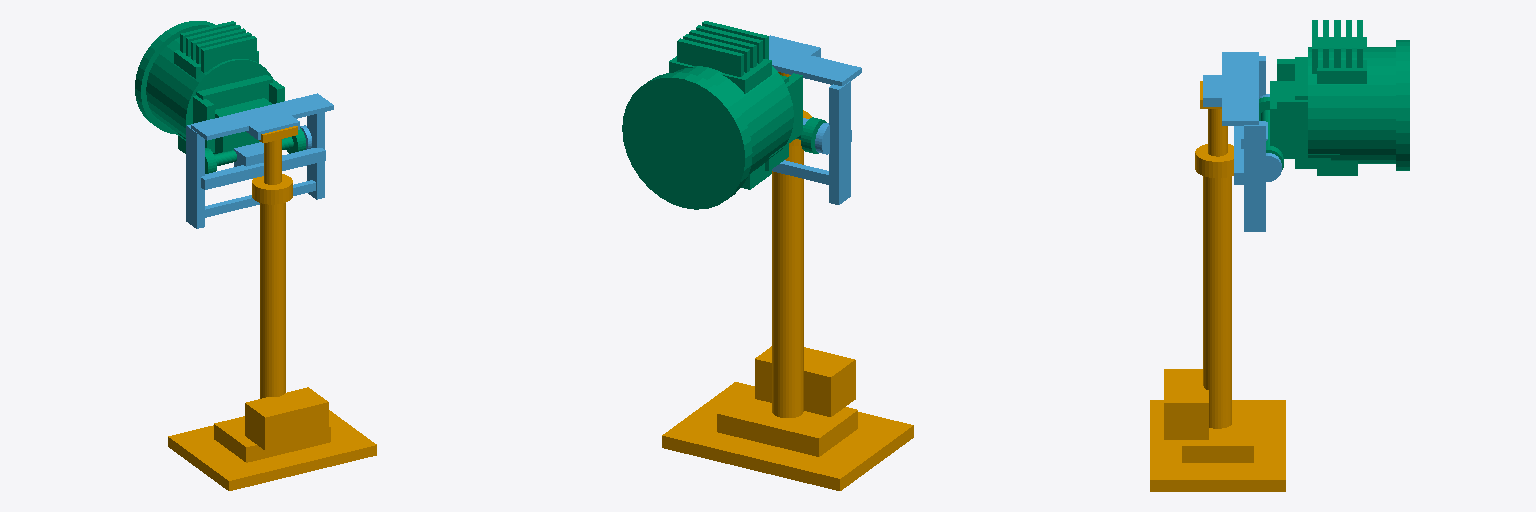
robot.urdf — studio_spotlight:
<robot name="studio_spotlight">
  <link name="stand">
    <inertial>
      <origin xyz="0 0 0.46" rpy="0 0 0" />
      <mass value="18" />
      <inertia ixx="1.4046" ixy="0" ixz="0" iyy="1.5342" iyz="0" izz="0.3996" />
    </inertial>
    <visual name="base_plate">
      <origin xyz="0 0 0.014" rpy="0 0 0" />
      <geometry>
        <box size="0.42 0.3 0.028" />
      </geometry>
    </visual>
    <visual name="base_plinth">
      <origin xyz="0 0 0.049" rpy="0 0 0" />
      <geometry>
        <box size="0.24 0.16 0.042" />
      </geometry>
    </visual>
    <visual name="ballast_box">
      <origin xyz="0 -0.07 0.115" rpy="0 0 0" />
      <geometry>
        <box size="0.18 0.1 0.09" />
      </geometry>
    </visual>
    <visual name="lower_riser">
      <origin xyz="0 0 0.38" rpy="0 0 0" />
      <geometry>
        <cylinder radius="0.032" length="0.62" />
      </geometry>
    </visual>
    <visual name="lock_collar">
      <origin xyz="0 0 0.71" rpy="0 0 0" />
      <geometry>
        <cylinder radius="0.05" length="0.04" />
      </geometry>
    </visual>
    <visual name="upper_riser">
      <origin xyz="0 0 0.795" rpy="0 0 0" />
      <geometry>
        <cylinder radius="0.022" length="0.13" />
      </geometry>
    </visual>
    <visual name="pan_head">
      <origin xyz="0 0 0.871" rpy="0 0 0" />
      <geometry>
        <box size="0.1 0.08 0.022" />
      </geometry>
    </visual>
    <visual name="foot_l_b">
      <origin xyz="-0.155 -0.105 -0.004" rpy="0 0 0" />
      <geometry>
        <box size="0.045 0.045 0.008" />
      </geometry>
    </visual>
    <visual name="foot_l_f">
      <origin xyz="-0.155 0.105 -0.004" rpy="0 0 0" />
      <geometry>
        <box size="0.045 0.045 0.008" />
      </geometry>
    </visual>
    <visual name="foot_r_b">
      <origin xyz="0.155 -0.105 -0.004" rpy="0 0 0" />
      <geometry>
        <box size="0.045 0.045 0.008" />
      </geometry>
    </visual>
    <visual name="foot_r_f">
      <origin xyz="0.155 0.105 -0.004" rpy="0 0 0" />
      <geometry>
        <box size="0.045 0.045 0.008" />
      </geometry>
    </visual>
    <collision name="stand__base_plate">
      <origin xyz="0 0 0.014" rpy="0 0 0" />
      <geometry>
        <box size="0.42 0.3 0.028" />
      </geometry>
    </collision>
    <collision name="stand__base_plinth">
      <origin xyz="0 0 0.049" rpy="0 0 0" />
      <geometry>
        <box size="0.24 0.16 0.042" />
      </geometry>
    </collision>
    <collision name="stand__ballast_box">
      <origin xyz="0 -0.07 0.115" rpy="0 0 0" />
      <geometry>
        <box size="0.18 0.1 0.09" />
      </geometry>
    </collision>
    <collision name="stand__lower_riser">
      <origin xyz="0 0 0.38" rpy="0 0 0" />
      <geometry>
        <cylinder radius="0.032" length="0.62" />
      </geometry>
    </collision>
    <collision name="stand__lock_collar">
      <origin xyz="0 0 0.71" rpy="0 0 0" />
      <geometry>
        <cylinder radius="0.05" length="0.04" />
      </geometry>
    </collision>
    <collision name="stand__upper_riser">
      <origin xyz="0 0 0.795" rpy="0 0 0" />
      <geometry>
        <cylinder radius="0.022" length="0.13" />
      </geometry>
    </collision>
    <collision name="stand__pan_head">
      <origin xyz="0 0 0.871" rpy="0 0 0" />
      <geometry>
        <box size="0.1 0.08 0.022" />
      </geometry>
    </collision>
    <collision name="stand__foot_l_b">
      <origin xyz="-0.155 -0.105 -0.004" rpy="0 0 0" />
      <geometry>
        <box size="0.045 0.045 0.008" />
      </geometry>
    </collision>
    <collision name="stand__foot_l_f">
      <origin xyz="-0.155 0.105 -0.004" rpy="0 0 0" />
      <geometry>
        <box size="0.045 0.045 0.008" />
      </geometry>
    </collision>
    <collision name="stand__foot_r_b">
      <origin xyz="0.155 -0.105 -0.004" rpy="0 0 0" />
      <geometry>
        <box size="0.045 0.045 0.008" />
      </geometry>
    </collision>
    <collision name="stand__foot_r_f">
      <origin xyz="0.155 0.105 -0.004" rpy="0 0 0" />
      <geometry>
        <box size="0.045 0.045 0.008" />
      </geometry>
    </collision>
  </link>
  <link name="yoke">
    <inertial>
      <origin xyz="0 0.05 -0.135" rpy="0 0 0" />
      <mass value="3.4" />
      <inertia ixx="0.0234883" ixy="0" ixz="0" iyy="0.057375" iyz="0" izz="0.0395533" />
    </inertial>
    <visual name="top_bridge">
      <origin xyz="0 0.05 -0.006" rpy="0 0 0" />
      <geometry>
        <box size="0.36 0.08 0.012" />
      </geometry>
    </visual>
    <visual name="pan_crown">
      <origin xyz="0 0.018 -0.011" rpy="0 0 0" />
      <geometry>
        <box size="0.12 0.1 0.022" />
      </geometry>
    </visual>
    <visual name="center_trunnion_block">
      <origin xyz="0 0.082 -0.132" rpy="0 0 0" />
      <geometry>
        <box size="0.09 0.06 0.052" />
      </geometry>
    </visual>
    <visual name="side_arm_l">
      <origin xyz="-0.17 0.082 -0.14" rpy="0 0 0" />
      <geometry>
        <box size="0.024 0.05 0.26" />
      </geometry>
    </visual>
    <visual name="tilt_collar_l">
      <origin xyz="-0.154 0.11 -0.125" rpy="0 1.5708 0" />
      <geometry>
        <cylinder radius="0.032" length="0.016" />
      </geometry>
    </visual>
    <visual name="side_arm_r">
      <origin xyz="0.17 0.082 -0.14" rpy="0 0 0" />
      <geometry>
        <box size="0.024 0.05 0.26" />
      </geometry>
    </visual>
    <visual name="tilt_collar_r">
      <origin xyz="0.154 0.11 -0.125" rpy="0 1.5708 0" />
      <geometry>
        <cylinder radius="0.032" length="0.016" />
      </geometry>
    </visual>
    <visual name="tilt_backbrace">
      <origin xyz="0 0.05 -0.145" rpy="0 0 0" />
      <geometry>
        <box size="0.342 0.028 0.028" />
      </geometry>
    </visual>
    <visual name="lower_stiffener">
      <origin xyz="0 0.068 -0.235" rpy="0 0 0" />
      <geometry>
        <box size="0.342 0.018 0.022" />
      </geometry>
    </visual>
    <collision name="yoke__top_bridge">
      <origin xyz="0 0.05 -0.006" rpy="0 0 0" />
      <geometry>
        <box size="0.36 0.08 0.012" />
      </geometry>
    </collision>
    <collision name="yoke__pan_crown">
      <origin xyz="0 0.018 -0.011" rpy="0 0 0" />
      <geometry>
        <box size="0.12 0.1 0.022" />
      </geometry>
    </collision>
    <collision name="yoke__center_trunnion_block">
      <origin xyz="0 0.082 -0.132" rpy="0 0 0" />
      <geometry>
        <box size="0.09 0.06 0.052" />
      </geometry>
    </collision>
    <collision name="yoke__side_arm_l">
      <origin xyz="-0.17 0.082 -0.14" rpy="0 0 0" />
      <geometry>
        <box size="0.024 0.05 0.26" />
      </geometry>
    </collision>
    <collision name="yoke__tilt_collar_l">
      <origin xyz="-0.154 0.11 -0.125" rpy="0 1.5708 0" />
      <geometry>
        <cylinder radius="0.032" length="0.016" />
      </geometry>
    </collision>
    <collision name="yoke__side_arm_r">
      <origin xyz="0.17 0.082 -0.14" rpy="0 0 0" />
      <geometry>
        <box size="0.024 0.05 0.26" />
      </geometry>
    </collision>
    <collision name="yoke__tilt_collar_r">
      <origin xyz="0.154 0.11 -0.125" rpy="0 1.5708 0" />
      <geometry>
        <cylinder radius="0.032" length="0.016" />
      </geometry>
    </collision>
    <collision name="yoke__tilt_backbrace">
      <origin xyz="0 0.05 -0.145" rpy="0 0 0" />
      <geometry>
        <box size="0.342 0.028 0.028" />
      </geometry>
    </collision>
    <collision name="yoke__lower_stiffener">
      <origin xyz="0 0.068 -0.235" rpy="0 0 0" />
      <geometry>
        <box size="0.342 0.018 0.022" />
      </geometry>
    </collision>
  </link>
  <link name="lamp">
    <inertial>
      <origin xyz="0 0.18 0.085" rpy="0 0 0" />
      <mass value="6.8" />
      <inertia ixx="0.123533" ixy="0" ixz="0" iyy="0.109027" iyz="0" izz="0.116507" />
    </inertial>
    <visual name="tilt_axle">
      <origin xyz="0 0 0" rpy="0 1.5708 0" />
      <geometry>
        <cylinder radius="0.015" length="0.23" />
      </geometry>
    </visual>
    <visual name="tilt_knob_l">
      <origin xyz="-0.127 0 0" rpy="0 1.5708 0" />
      <geometry>
        <cylinder radius="0.036" length="0.024" />
      </geometry>
    </visual>
    <visual name="tilt_knob_r">
      <origin xyz="0.127 0 0" rpy="0 1.5708 0" />
      <geometry>
        <cylinder radius="0.036" length="0.024" />
      </geometry>
    </visual>
    <visual name="rear_body">
      <origin xyz="0 0.1 0.06" rpy="0 0 0" />
      <geometry>
        <box size="0.2 0.08 0.18" />
      </geometry>
    </visual>
    <visual name="trunnion_core">
      <origin xyz="0 0.05 0.045" rpy="0 0 0" />
      <geometry>
        <box size="0.15 0.09 0.12" />
      </geometry>
    </visual>
    <visual name="main_drum">
      <origin xyz="0 0.19 0.08" rpy="1.5708 0 0" />
      <geometry>
        <cylinder radius="0.13" length="0.2" />
      </geometry>
    </visual>
    <visual name="front_bezel">
      <origin xyz="0 0.3 0.08" rpy="1.5708 0 0" />
      <geometry>
        <cylinder radius="0.145" length="0.03" />
      </geometry>
    </visual>
    <visual name="lens_tube">
      <origin xyz="0 0.255 0.08" rpy="1.5708 0 0" />
      <geometry>
        <cylinder radius="0.102" length="0.06" />
      </geometry>
    </visual>
    <visual name="front_lens">
      <origin xyz="0 0.287 0.08" rpy="1.5708 0 0" />
      <geometry>
        <cylinder radius="0.122" length="0.008" />
      </geometry>
    </visual>
    <visual name="driver_housing">
      <origin xyz="0 0.165 0.165" rpy="0 0 0" />
      <geometry>
        <box size="0.18 0.11 0.08" />
      </geometry>
    </visual>
    <visual name="lower_chin">
      <origin xyz="0 0.155 -0.025" rpy="0 0 0" />
      <geometry>
        <box size="0.18 0.09 0.05" />
      </geometry>
    </visual>
    <visual name="cooling_fin_1">
      <origin xyz="0 0.105 0.222" rpy="0 0 0" />
      <geometry>
        <box size="0.15 0.014 0.06" />
      </geometry>
    </visual>
    <visual name="cooling_fin_2">
      <origin xyz="0 0.13 0.222" rpy="0 0 0" />
      <geometry>
        <box size="0.15 0.014 0.06" />
      </geometry>
    </visual>
    <visual name="cooling_fin_3">
      <origin xyz="0 0.155 0.222" rpy="0 0 0" />
      <geometry>
        <box size="0.15 0.014 0.06" />
      </geometry>
    </visual>
    <visual name="cooling_fin_4">
      <origin xyz="0 0.18 0.222" rpy="0 0 0" />
      <geometry>
        <box size="0.15 0.014 0.06" />
      </geometry>
    </visual>
    <visual name="cooling_fin_5">
      <origin xyz="0 0.205 0.222" rpy="0 0 0" />
      <geometry>
        <box size="0.15 0.014 0.06" />
      </geometry>
    </visual>
    <visual name="side_cheek_l">
      <origin xyz="-0.1 0.09 0.075" rpy="0 0 0" />
      <geometry>
        <box size="0.022 0.14 0.13" />
      </geometry>
    </visual>
    <visual name="side_cheek_r">
      <origin xyz="0.1 0.09 0.075" rpy="0 0 0" />
      <geometry>
        <box size="0.022 0.14 0.13" />
      </geometry>
    </visual>
    <visual name="accessory_tab_1">
      <origin xyz="0 0.305 -0.05" rpy="0 0 0" />
      <geometry>
        <box size="0.055 0.012 0.028" />
      </geometry>
    </visual>
    <visual name="accessory_tab_2">
      <origin xyz="0 0.305 0.176" rpy="0 0 0" />
      <geometry>
        <box size="0.055 0.012 0.028" />
      </geometry>
    </visual>
    <visual name="carry_handle">
      <geometry>
        <mesh filename="meshes/lamp_handle.glb" />
      </geometry>
    </visual>
    <collision name="lamp__tilt_axle">
      <origin xyz="0 0 0" rpy="0 1.5708 0" />
      <geometry>
        <cylinder radius="0.015" length="0.23" />
      </geometry>
    </collision>
    <collision name="lamp__tilt_knob_l">
      <origin xyz="-0.127 0 0" rpy="0 1.5708 0" />
      <geometry>
        <cylinder radius="0.036" length="0.024" />
      </geometry>
    </collision>
    <collision name="lamp__tilt_knob_r">
      <origin xyz="0.127 0 0" rpy="0 1.5708 0" />
      <geometry>
        <cylinder radius="0.036" length="0.024" />
      </geometry>
    </collision>
    <collision name="lamp__rear_body">
      <origin xyz="0 0.1 0.06" rpy="0 0 0" />
      <geometry>
        <box size="0.2 0.08 0.18" />
      </geometry>
    </collision>
    <collision name="lamp__trunnion_core">
      <origin xyz="0 0.05 0.045" rpy="0 0 0" />
      <geometry>
        <box size="0.15 0.09 0.12" />
      </geometry>
    </collision>
    <collision name="lamp__main_drum">
      <origin xyz="0 0.19 0.08" rpy="1.5708 0 0" />
      <geometry>
        <cylinder radius="0.13" length="0.2" />
      </geometry>
    </collision>
    <collision name="lamp__front_bezel">
      <origin xyz="0 0.3 0.08" rpy="1.5708 0 0" />
      <geometry>
        <cylinder radius="0.145" length="0.03" />
      </geometry>
    </collision>
    <collision name="lamp__lens_tube">
      <origin xyz="0 0.255 0.08" rpy="1.5708 0 0" />
      <geometry>
        <cylinder radius="0.102" length="0.06" />
      </geometry>
    </collision>
    <collision name="lamp__front_lens">
      <origin xyz="0 0.287 0.08" rpy="1.5708 0 0" />
      <geometry>
        <cylinder radius="0.122" length="0.008" />
      </geometry>
    </collision>
    <collision name="lamp__driver_housing">
      <origin xyz="0 0.165 0.165" rpy="0 0 0" />
      <geometry>
        <box size="0.18 0.11 0.08" />
      </geometry>
    </collision>
    <collision name="lamp__lower_chin">
      <origin xyz="0 0.155 -0.025" rpy="0 0 0" />
      <geometry>
        <box size="0.18 0.09 0.05" />
      </geometry>
    </collision>
    <collision name="lamp__cooling_fin_1">
      <origin xyz="0 0.105 0.222" rpy="0 0 0" />
      <geometry>
        <box size="0.15 0.014 0.06" />
      </geometry>
    </collision>
    <collision name="lamp__cooling_fin_2">
      <origin xyz="0 0.13 0.222" rpy="0 0 0" />
      <geometry>
        <box size="0.15 0.014 0.06" />
      </geometry>
    </collision>
    <collision name="lamp__cooling_fin_3">
      <origin xyz="0 0.155 0.222" rpy="0 0 0" />
      <geometry>
        <box size="0.15 0.014 0.06" />
      </geometry>
    </collision>
    <collision name="lamp__cooling_fin_4">
      <origin xyz="0 0.18 0.222" rpy="0 0 0" />
      <geometry>
        <box size="0.15 0.014 0.06" />
      </geometry>
    </collision>
    <collision name="lamp__cooling_fin_5">
      <origin xyz="0 0.205 0.222" rpy="0 0 0" />
      <geometry>
        <box size="0.15 0.014 0.06" />
      </geometry>
    </collision>
    <collision name="lamp__side_cheek_l">
      <origin xyz="-0.1 0.09 0.075" rpy="0 0 0" />
      <geometry>
        <box size="0.022 0.14 0.13" />
      </geometry>
    </collision>
    <collision name="lamp__side_cheek_r">
      <origin xyz="0.1 0.09 0.075" rpy="0 0 0" />
      <geometry>
        <box size="0.022 0.14 0.13" />
      </geometry>
    </collision>
    <collision name="lamp__accessory_tab_1">
      <origin xyz="0 0.305 -0.05" rpy="0 0 0" />
      <geometry>
        <box size="0.055 0.012 0.028" />
      </geometry>
    </collision>
    <collision name="lamp__accessory_tab_2">
      <origin xyz="0 0.305 0.176" rpy="0 0 0" />
      <geometry>
        <box size="0.055 0.012 0.028" />
      </geometry>
    </collision>
    <collision name="lamp__carry_handle__hull_001">
      <geometry>
        <mesh filename="meshes/collision/cache/d42eedbc9567bdf8d83b6e36__hull_001.obj" />
      </geometry>
    </collision>
    <collision name="lamp__carry_handle__hull_002">
      <geometry>
        <mesh filename="meshes/collision/cache/d42eedbc9567bdf8d83b6e36__hull_002.obj" />
      </geometry>
    </collision>
    <collision name="lamp__carry_handle__hull_003">
      <geometry>
        <mesh filename="meshes/collision/cache/d42eedbc9567bdf8d83b6e36__hull_003.obj" />
      </geometry>
    </collision>
    <collision name="lamp__carry_handle__hull_004">
      <geometry>
        <mesh filename="meshes/collision/cache/d42eedbc9567bdf8d83b6e36__hull_004.obj" />
      </geometry>
    </collision>
  </link>
  <joint name="stand_pan" type="revolute">
    <origin xyz="0 0 0.89" rpy="0 0 0" />
    <parent link="stand" />
    <child link="yoke" />
    <axis xyz="0 0 1" />
    <limit effort="40" velocity="1.5" lower="-1.9" upper="1.9" />
  </joint>
  <joint name="yoke_tilt" type="revolute">
    <origin xyz="0 0.11 -0.125" rpy="0 0 0" />
    <parent link="yoke" />
    <child link="lamp" />
    <axis xyz="1 0 0" />
    <limit effort="22" velocity="1.8" lower="-1.05" upper="0.65" />
  </joint>
</robot>

--- What the picture shows (computed from the rendered views, not written in the file) ---
The picture shows the robot from 3 angles, left to right: view 1: azimuth 30°, elevation 25°; view 2: azimuth 150°, elevation 25°; view 3: azimuth 270°, elevation 25°; orthographic projection.
Model studio_spotlight with 3 links and 2 joints (2 revolute), rooted at stand, posed all joints at 0.
Visible links, largest first — view 1: stand, lamp, yoke; view 2: stand, lamp, yoke; view 3: stand, lamp, yoke.
Boxes of the visible links, x1,y1,x2,y2 form: stand: [168, 126, 376, 490]; lamp: [135, 21, 306, 173]; yoke: [186, 93, 333, 228]; stand: [662, 72, 913, 490]; lamp: [622, 21, 826, 209]; yoke: [769, 35, 861, 204]; stand: [1150, 81, 1285, 491]; lamp: [1259, 20, 1409, 175]; yoke: [1203, 52, 1281, 231].
Bounding box of the posed robot: 0.42 × 0.575 × 1.02 m (x, y, z).
0 mesh visuals loaded from 1 distinct referenced files (none loaded); not drawn: 1 (reference not matched to a file when rendering).
